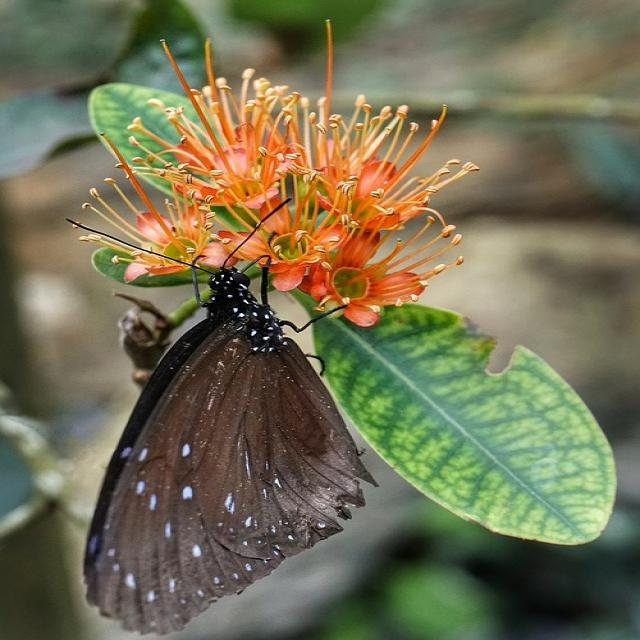butterfly: (82, 249, 378, 640)
